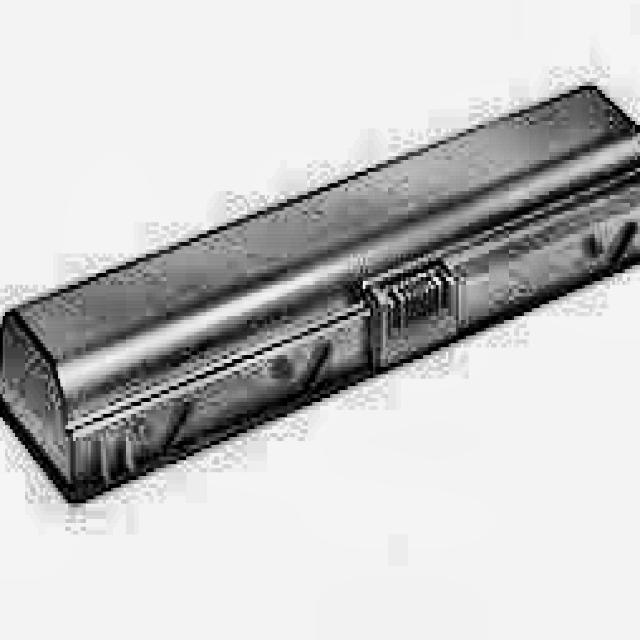Battery: (2, 93, 640, 491)
